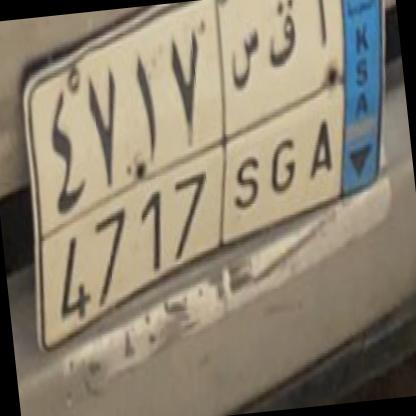english: (26, 102, 380, 344)
